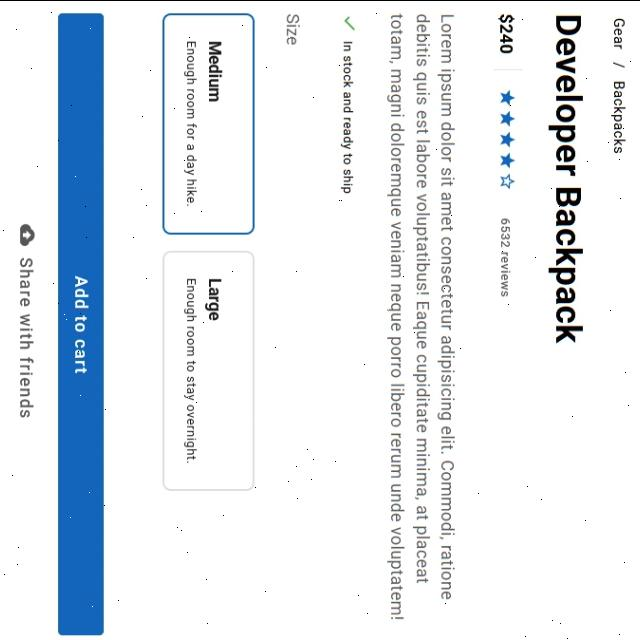QLabel: (386, 9, 458, 622), (550, 14, 584, 342), (182, 277, 198, 461), (18, 255, 34, 420), (338, 36, 354, 194), (184, 38, 198, 208), (72, 272, 88, 376), (206, 39, 222, 103), (498, 216, 510, 296), (496, 11, 516, 53), (206, 276, 222, 320), (286, 12, 300, 46)
VBreadcrumbs: (610, 14, 628, 154)
VBtn: (56, 12, 104, 636), (161, 250, 255, 490), (161, 12, 255, 235)
VDivider: (492, 67, 526, 71)
VIcon: (20, 222, 34, 244), (344, 14, 356, 30)
VRating: (498, 86, 514, 190)
